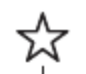favorites: (6, 4, 77, 63)
